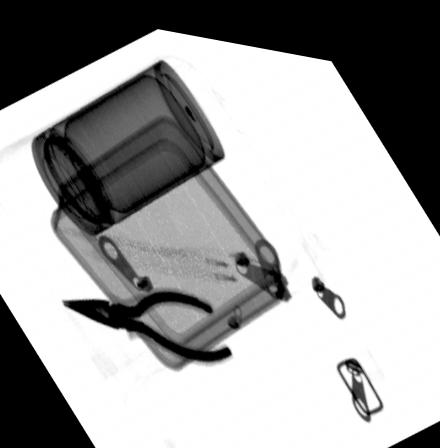Pliers: (61, 280, 235, 358)
